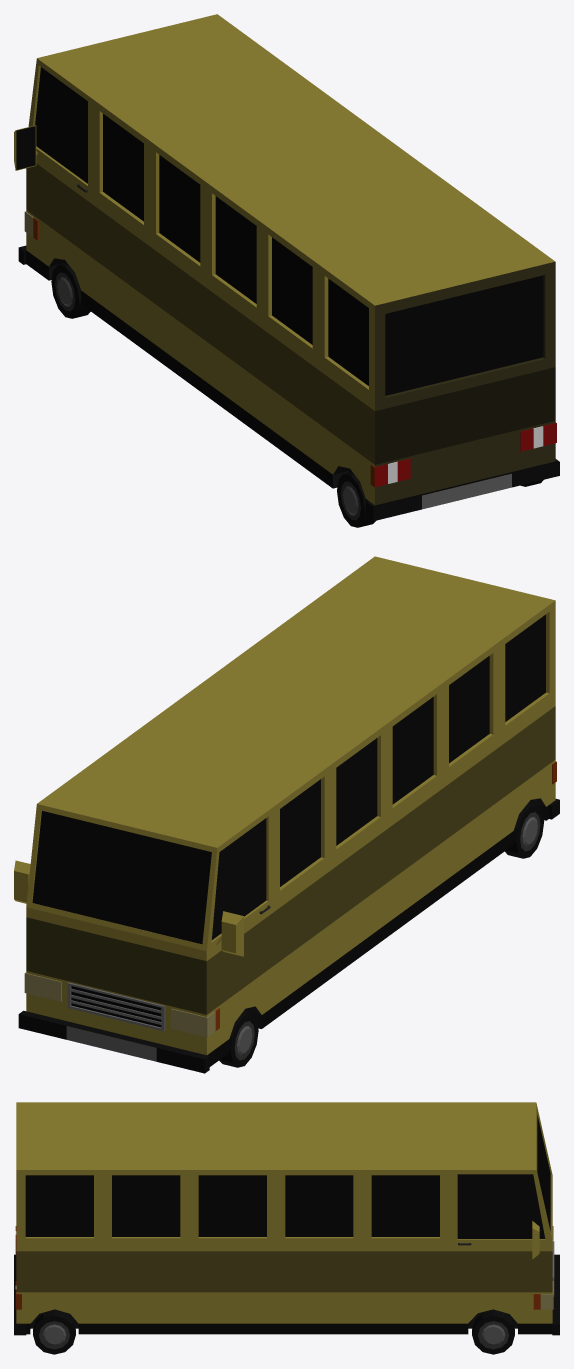
Rendered from bus.FBX.
The picture shows the model from 3 angles, top to bottom: view 1: azimuth 30°, elevation 25°; view 2: azimuth 150°, elevation 25°; view 3: azimuth 270°, elevation 25°; orthographic projection. The views are drawn at different scales.
Visible parts, largest first — view 1: bus; view 2: bus; view 3: bus.
Boxes of the visible parts, x1,y1,x2,y2 form: bus: (14,14,559,527); bus: (14,556,559,1073); bus: (14,1102,559,1354).
Bounding box in the file's own units: 3.42 × 3.42 × 9.21.
